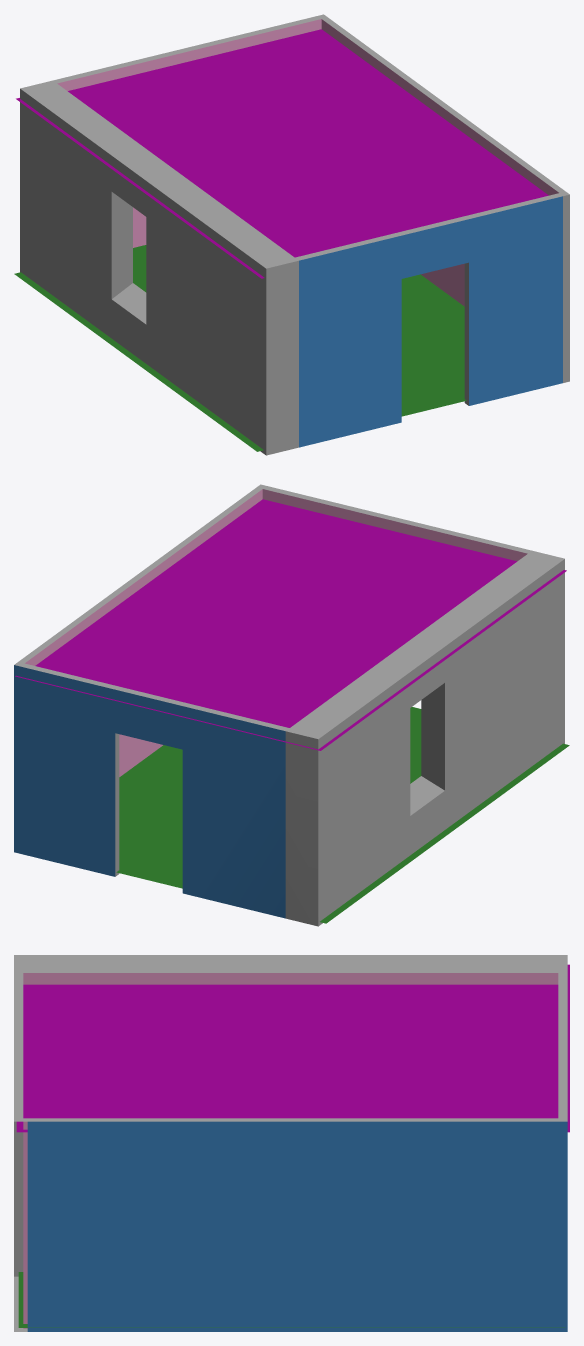
Rendered from singleRoom.fbx.
The picture shows the model from 3 angles, top to bottom: view 1: azimuth 30°, elevation 25°; view 2: azimuth 150°, elevation 25°; view 3: azimuth 270°, elevation 25°; orthographic projection. The views are drawn at different scales.
Parts seen in each view (by area): view 1: polySurface603, polySurface608, polySurface545; view 2: polySurface603, polySurface608, polySurface545; view 3: polySurface603, polySurface608, polySurface545.
Boxes of the visible parts, box(x1,y1,x2,y2) form: polySurface603: box(20, 14, 569, 455); polySurface608: box(16, 29, 548, 278); polySurface545: box(14, 245, 466, 451); polySurface603: box(14, 484, 564, 926); polySurface608: box(15, 499, 566, 750); polySurface545: box(116, 707, 569, 923); polySurface603: box(14, 955, 567, 1331); polySurface608: box(16, 964, 569, 1132); polySurface545: box(18, 1272, 565, 1327).
Bounding box in the file's own units: 952 × 546 × 1308.
